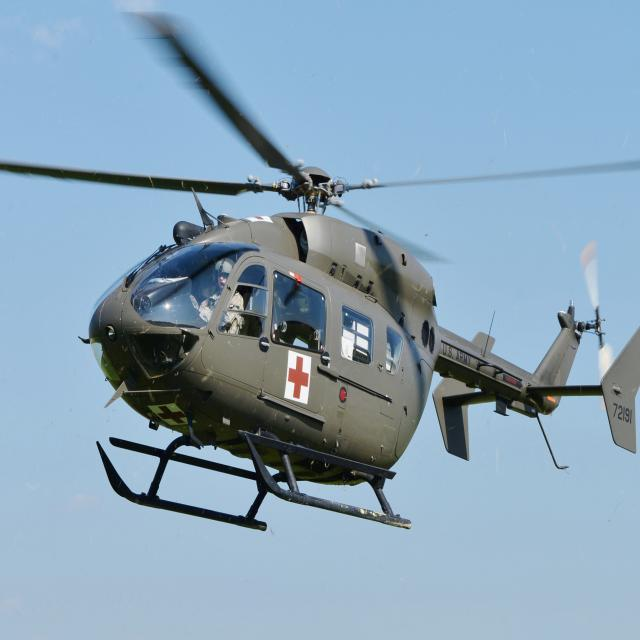helicopter: (1, 15, 640, 535)
